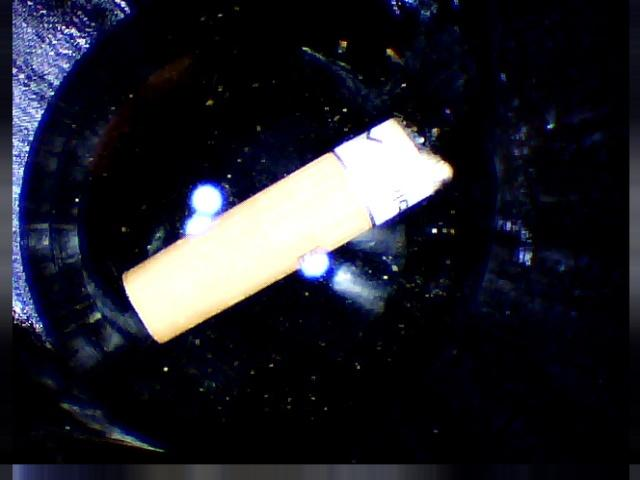megot: (102, 102, 460, 362)
